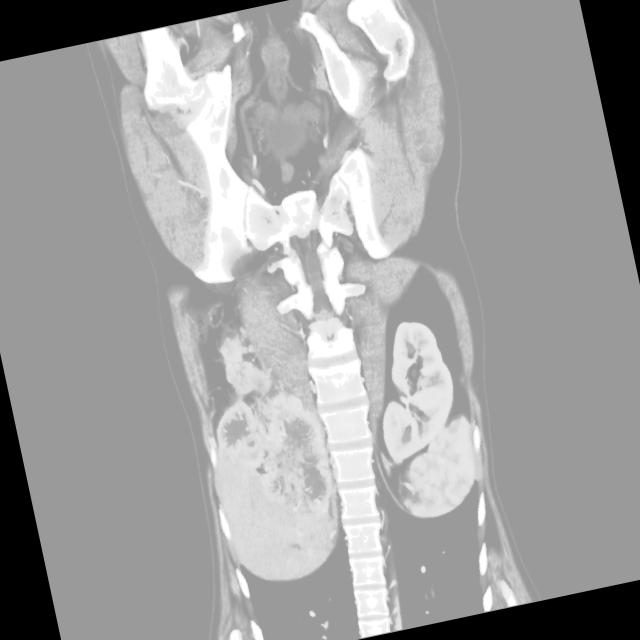TUMOR: (144, 226, 489, 520)
